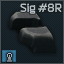P226 rear sight: (0, 0, 64, 64)
